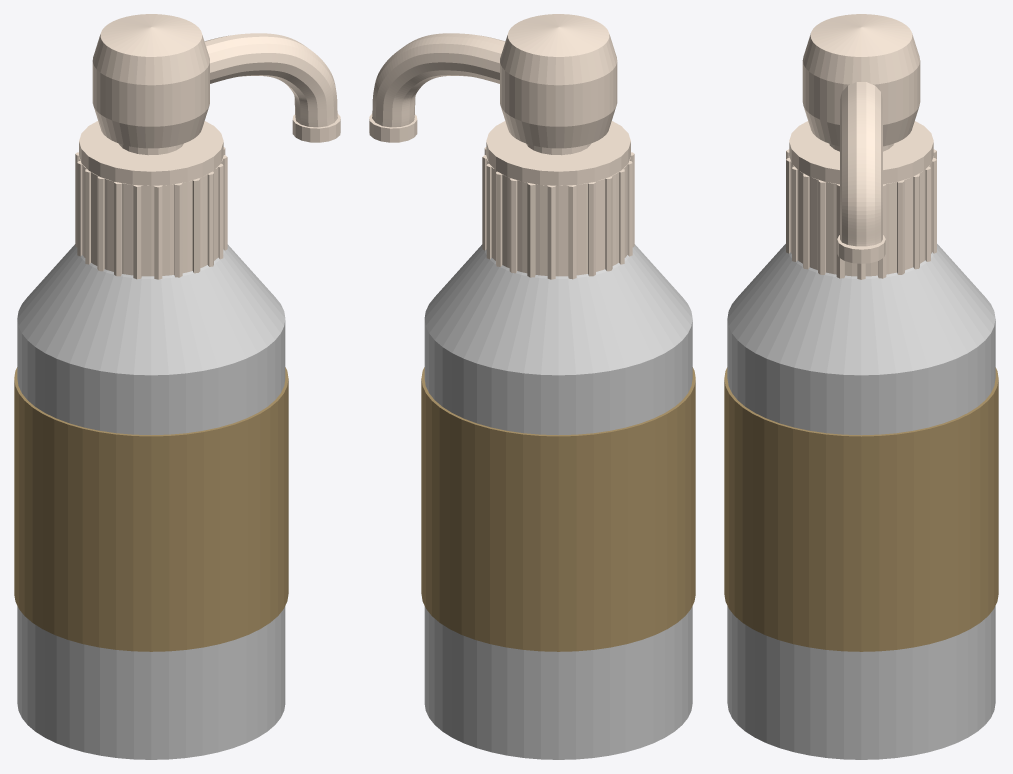
File: Container_Pump__0000.glb
3 views of the same model, side by side, from view 1: azimuth 30°, elevation 25°; view 2: azimuth 150°, elevation 25°; view 3: azimuth 270°, elevation 25° (orthographic).
Parts seen in each view (by area): view 1: bottle::bottle_shell, bottle::label_band, head::head_shell, collar::collar_knurl, collar::collar_shell, head_carrier::carrier_hub; view 2: bottle::bottle_shell, bottle::label_band, head::head_shell, collar::collar_knurl, collar::collar_shell, head_carrier::carrier_hub; view 3: bottle::bottle_shell, bottle::label_band, head::head_shell, collar::collar_knurl, collar::collar_shell, head_carrier::carrier_hub.
Boxes of the visible parts, x1,y1,x2,y2 form: bottle::bottle_shell: (17, 244, 285, 759); bottle::label_band: (14, 367, 288, 651); head::head_shell: (92, 14, 340, 155); collar::collar_knurl: (75, 147, 227, 279); collar::collar_shell: (79, 156, 223, 276); head_carrier::carrier_hub: (79, 121, 223, 185); bottle::bottle_shell: (424, 244, 692, 759); bottle::label_band: (421, 367, 695, 651); head::head_shell: (369, 14, 617, 155); collar::collar_knurl: (482, 147, 634, 279); collar::collar_shell: (486, 156, 630, 276); head_carrier::carrier_hub: (486, 121, 630, 185); bottle::bottle_shell: (727, 244, 995, 759); bottle::label_band: (724, 367, 998, 651); head::head_shell: (802, 14, 920, 263); collar::collar_knurl: (786, 149, 936, 279); collar::collar_shell: (789, 156, 933, 276); head_carrier::carrier_hub: (789, 121, 933, 184).
Size of the model in its own units: 0.09 by 0.1945 by 0.07.
